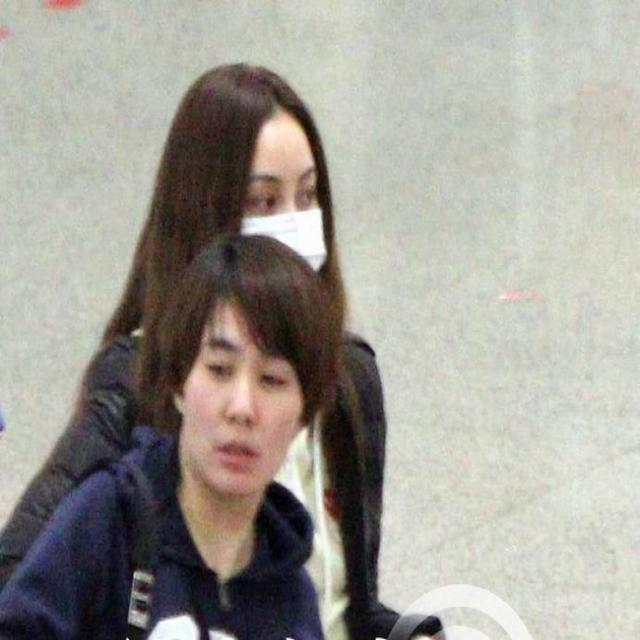mask: (229, 118, 324, 295)
nomask: (180, 300, 302, 493)
